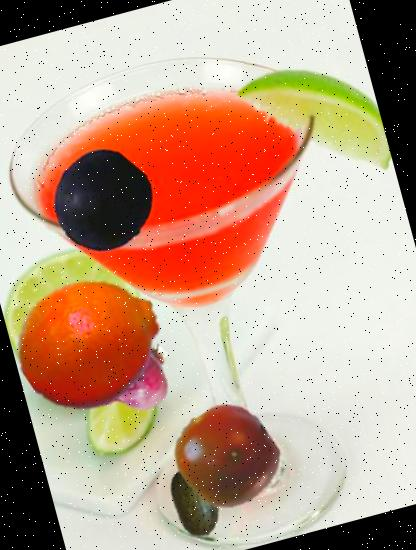Grape: (42, 142, 164, 262)
Melon: (152, 459, 240, 546)
Onion: (84, 327, 187, 430)
Tangelo: (1, 252, 180, 431)
Tomato: (164, 394, 290, 520)
